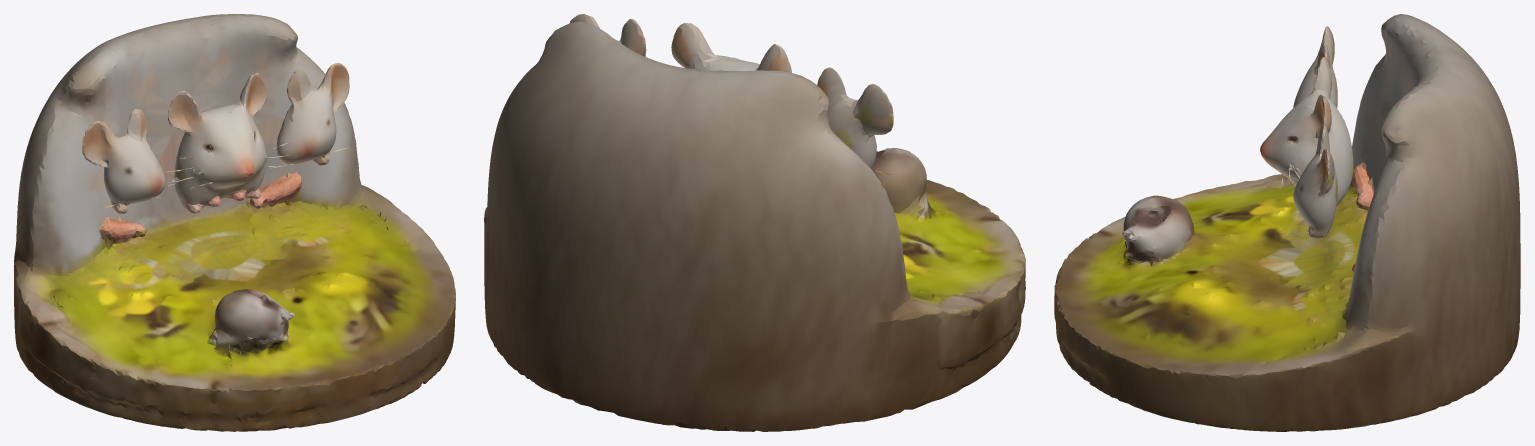
3 renders of one model, left to right at view 1: azimuth 30°, elevation 25°; view 2: azimuth 150°, elevation 25°; view 3: azimuth 270°, elevation 25°, orthographic. The views are drawn at different scales.
Visible parts, largest first — view 1: WarmBurrow; view 2: WarmBurrow; view 3: WarmBurrow.
Part boxes in pixels (x1,y1,x2,y2): WarmBurrow: [14, 14, 455, 431]; WarmBurrow: [484, 14, 1025, 431]; WarmBurrow: [1054, 14, 1520, 431].
Bounding box in the file's own units: 1.89 × 1.24 × 1.88.
Materials: 1 (1 with a texture image).
